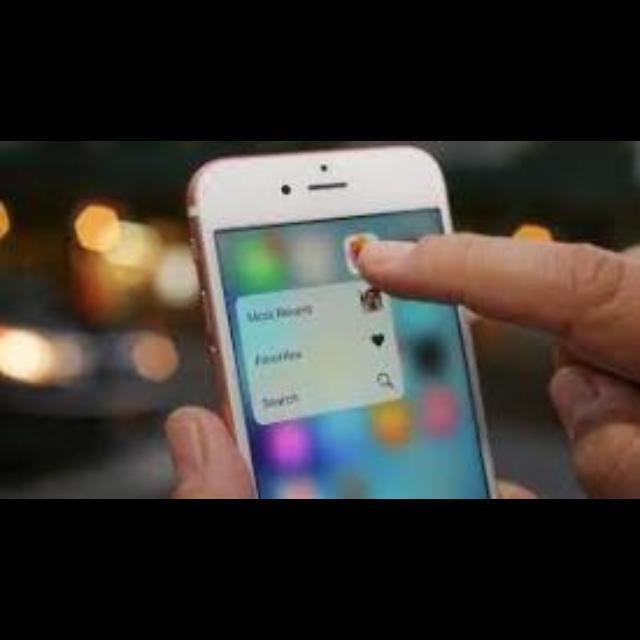phone: (174, 142, 576, 498)
